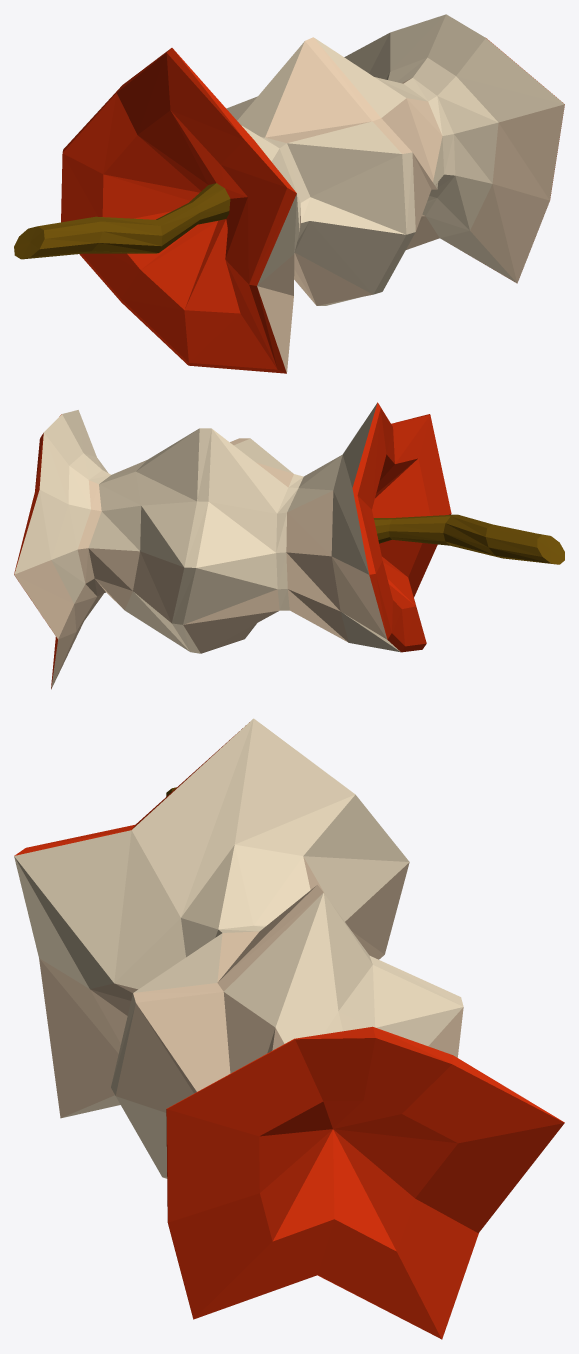
File: apple cone coloured.fbx
3 renders of one model, top to bottom at view 1: azimuth 30°, elevation 25°; view 2: azimuth 150°, elevation 25°; view 3: azimuth 270°, elevation 25°, orthographic. The views are drawn at different scales.
Parts seen in each view (by area): view 1: pCylinder9; view 2: pCylinder9; view 3: pCylinder9.
Boxes of the visible parts, x1,y1,x2,y2 form: pCylinder9: [14, 14, 564, 373]; pCylinder9: [14, 402, 564, 689]; pCylinder9: [14, 718, 564, 1339].
Size of the model in its own units: 1.2 by 0.7096 by 0.8097.
